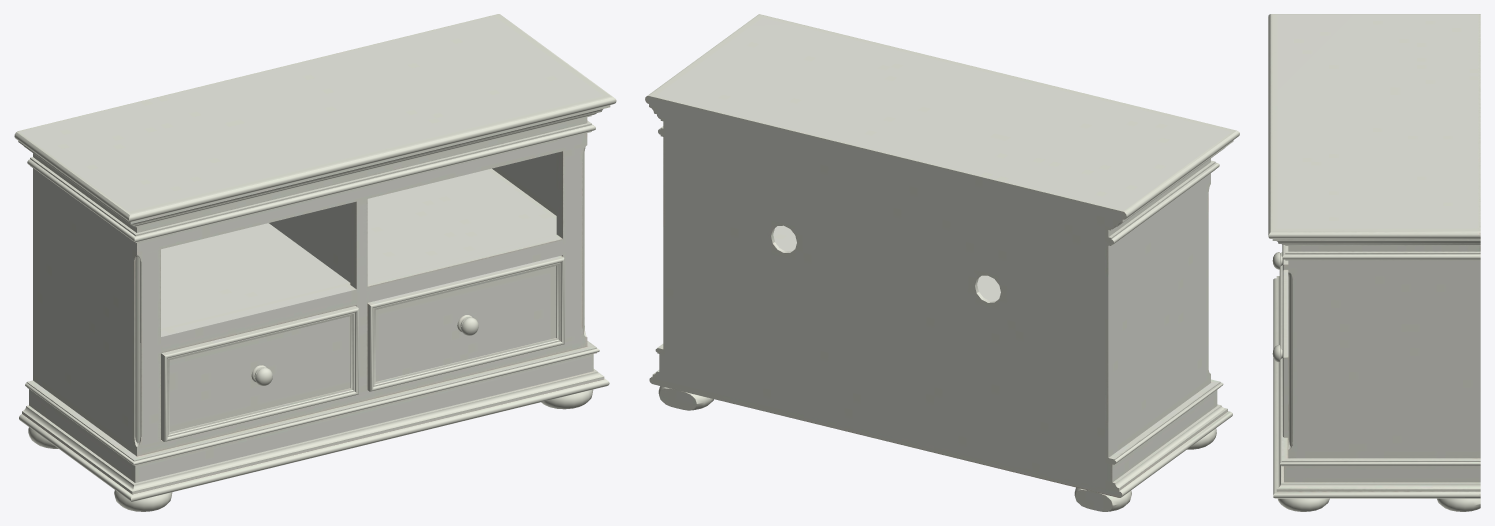
Rendered from example165.gltf.
3 views of the same model, side by side, from view 1: azimuth 30°, elevation 25°; view 2: azimuth 150°, elevation 25°; view 3: azimuth 270°, elevation 25° (orthographic). The views are drawn at different scales.
Size of the model in its own units: 111 by 67 by 45.
Materials: 2 (1 with a texture image).
